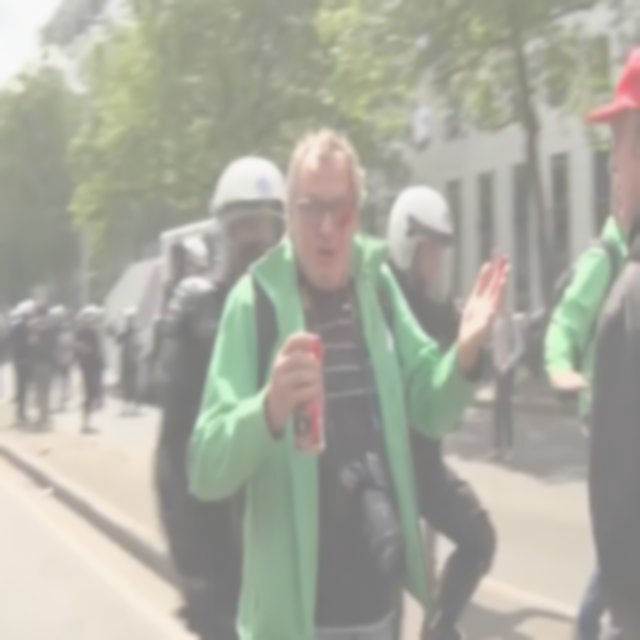pessoa: (180, 114, 515, 638), (154, 152, 292, 638), (384, 180, 498, 638), (578, 34, 640, 638), (541, 160, 639, 440), (147, 232, 212, 618), (0, 272, 147, 431), (478, 284, 528, 465)
